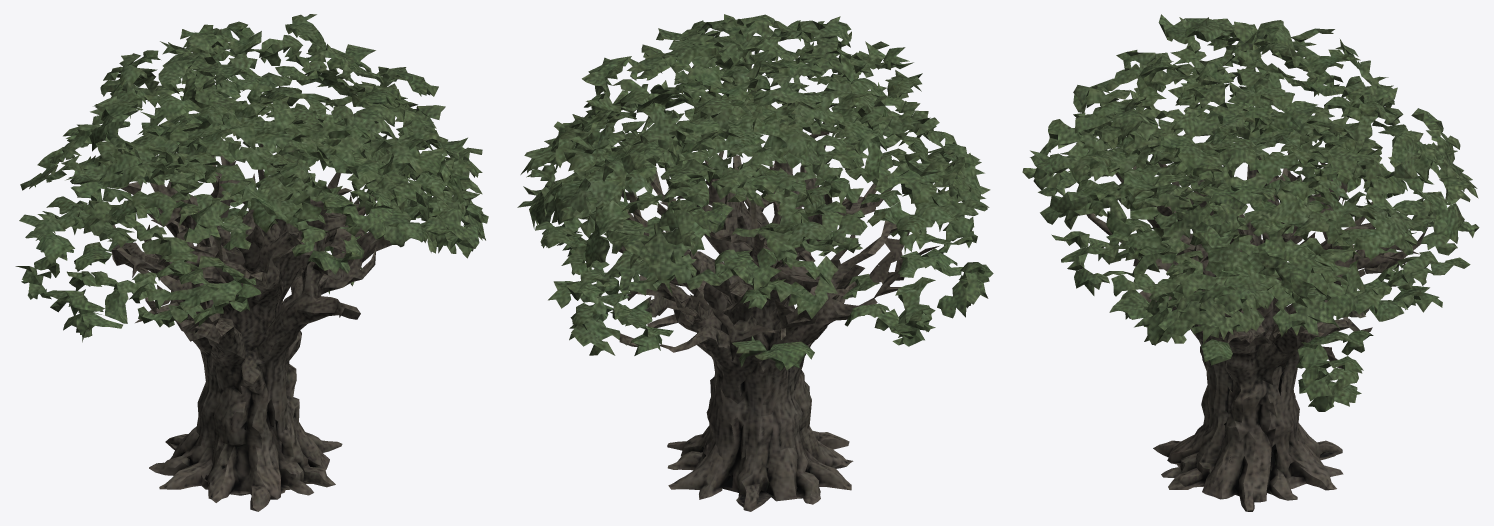
File: yard_tree.glb
3 views of the same model, side by side, from view 1: azimuth 30°, elevation 25°; view 2: azimuth 150°, elevation 25°; view 3: azimuth 270°, elevation 25° (orthographic).
Visible parts, largest first — view 1: world; view 2: world; view 3: world.
Boxes of the visible parts, x1,y1,x2,y2 form: world: [15, 14, 488, 511]; world: [517, 14, 993, 511]; world: [1022, 14, 1479, 511].
Size of the model in its own units: 7.99 by 8 by 7.68.
1 material, 1 textured.
